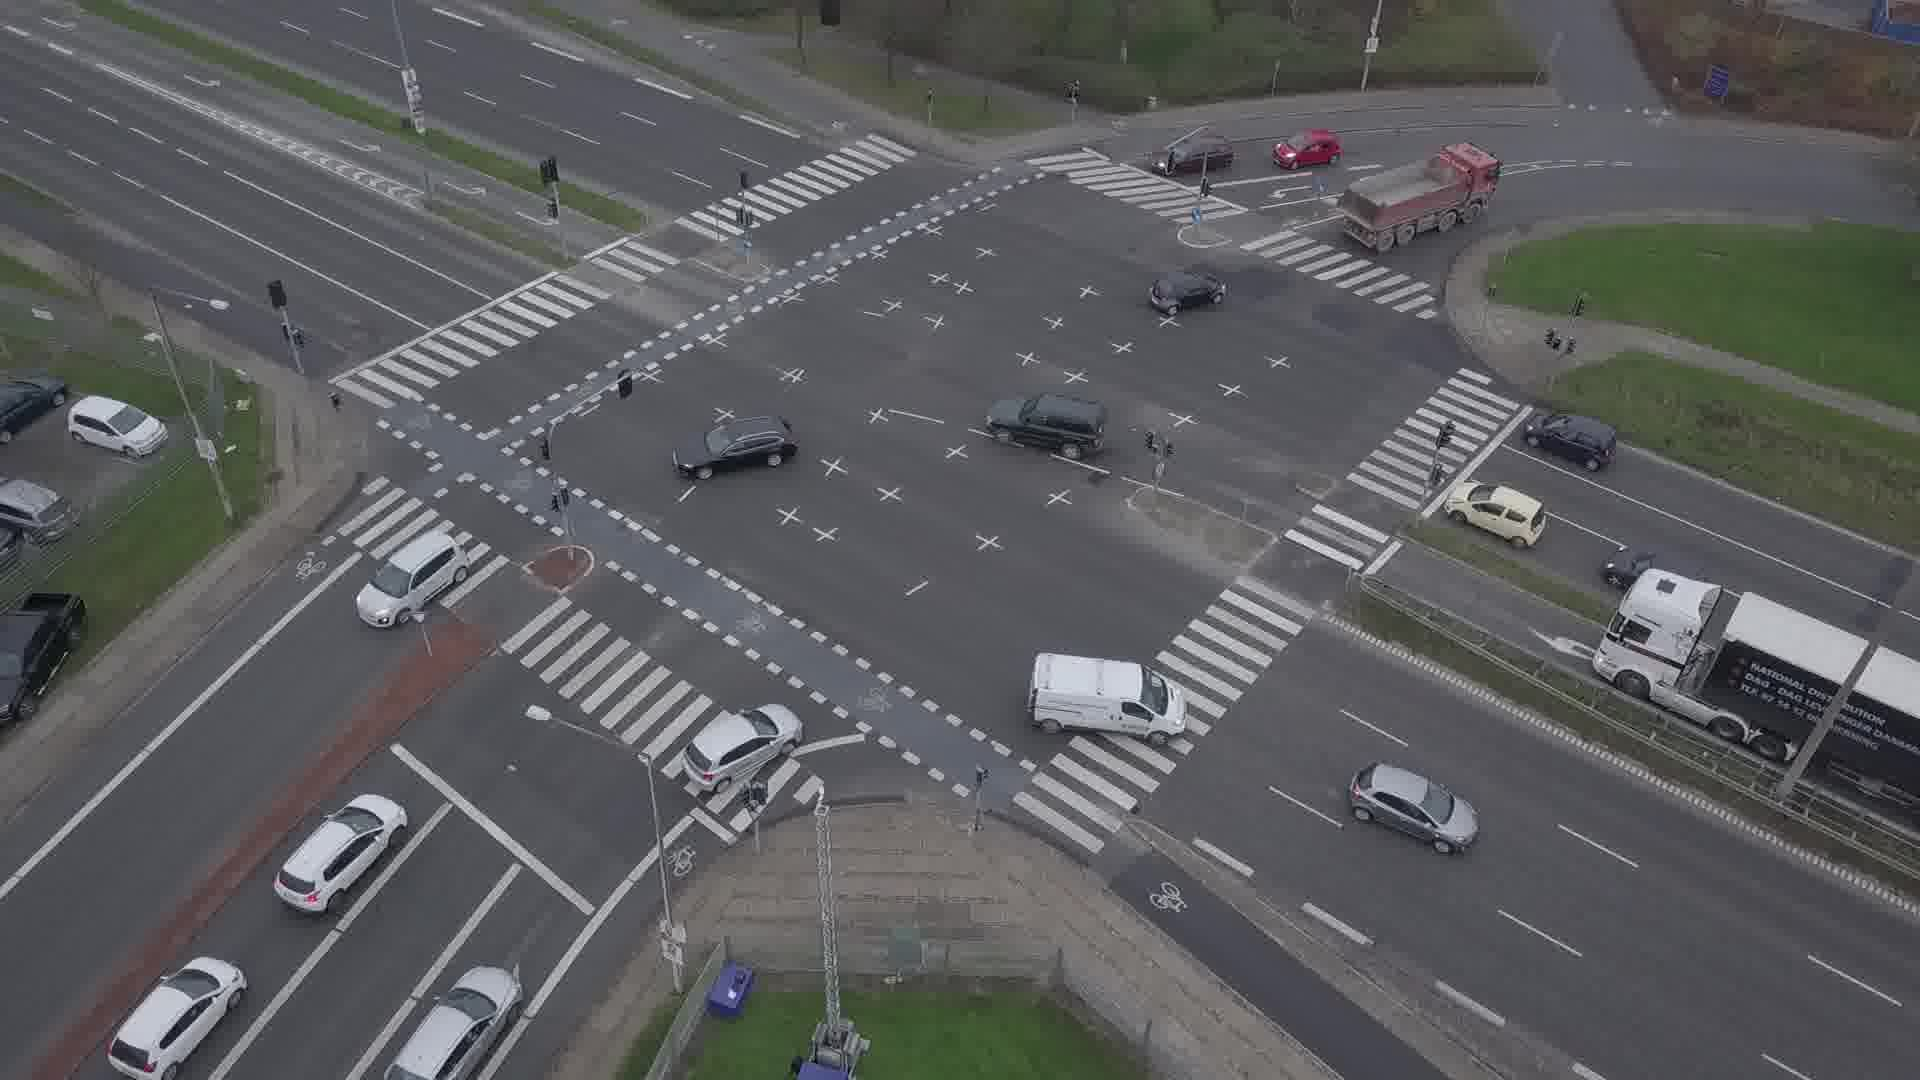car: (106, 957, 248, 1080), (273, 794, 408, 913), (384, 966, 524, 1080), (1348, 762, 1479, 854), (356, 530, 471, 628), (680, 703, 802, 793), (985, 391, 1107, 460), (672, 416, 798, 479), (1443, 482, 1547, 548), (1523, 408, 1617, 470), (1602, 546, 1708, 587), (1146, 272, 1228, 316), (1152, 132, 1234, 174), (1270, 129, 1344, 169)
lorry: (1592, 568, 1920, 862), (1336, 143, 1502, 252), (1026, 652, 1189, 744)
